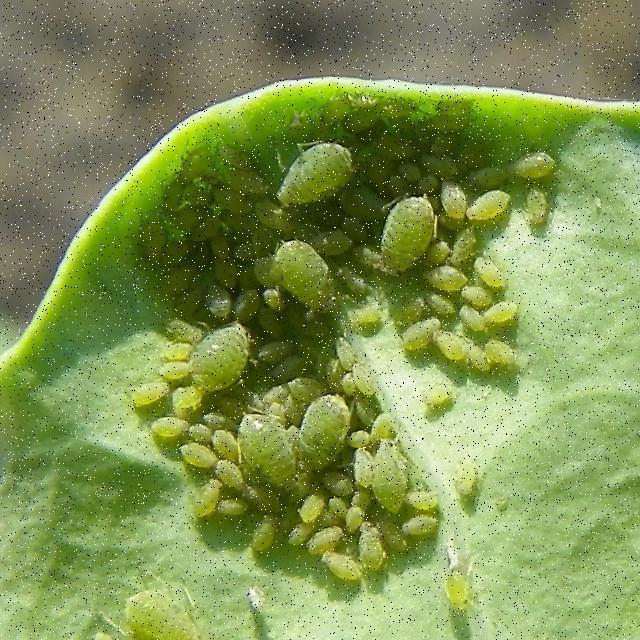Aphids: (255, 125, 365, 226), (254, 234, 355, 328), (224, 409, 310, 514), (170, 294, 262, 389), (360, 185, 456, 275), (278, 382, 366, 469)
